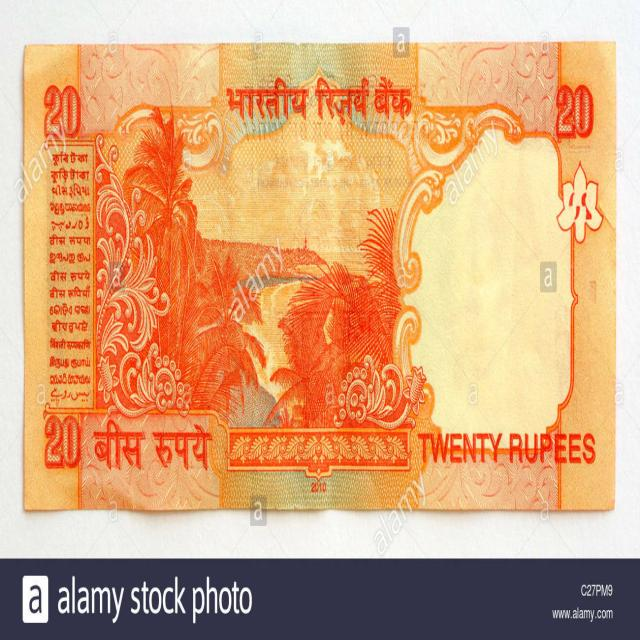20IndianRupees: (27, 44, 616, 508)
